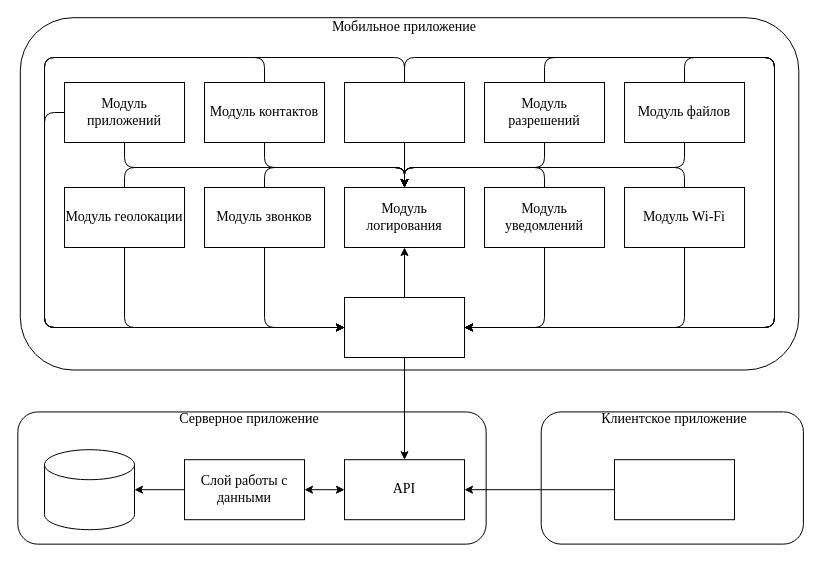
This 821x562 diagram has some shape labels left out. Here are the shapes that lost their labels. From the top down, the centre of each, then its label:
At (x=404, y=112): "Модуль SMS".
At (x=404, y=327): "Модуль коммуникации".
At (x=89, y=489): "База данных".
At (x=674, y=489): "Пользовательский интерфейс".
